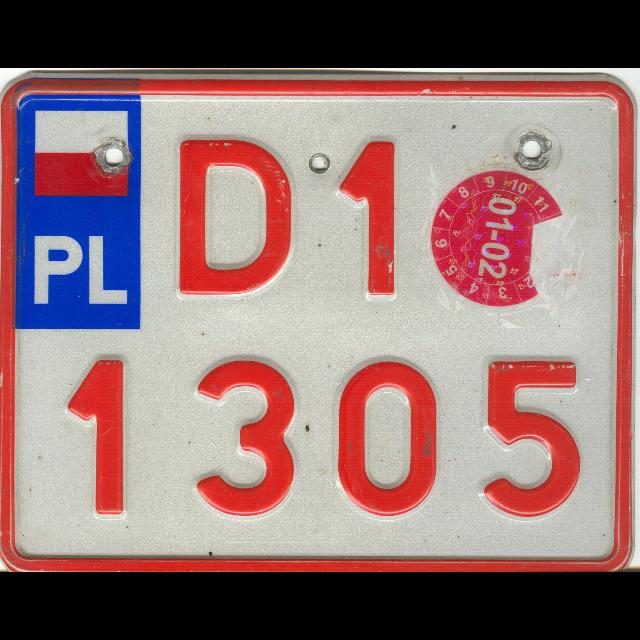pl_license_plate: (9, 89, 623, 566)
